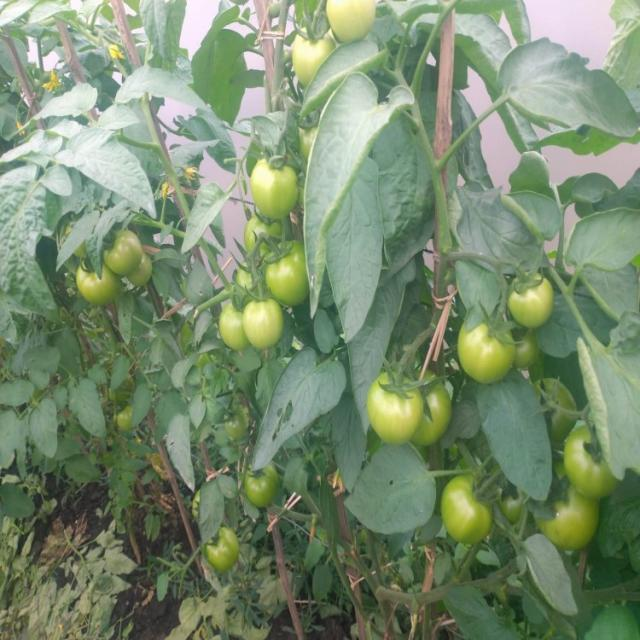tomato: (456, 301, 525, 390), (539, 462, 604, 550), (358, 364, 428, 444), (446, 468, 506, 546), (564, 427, 628, 495), (414, 359, 461, 450), (233, 200, 295, 266), (268, 246, 326, 308), (508, 270, 562, 331), (327, 1, 390, 53), (252, 160, 297, 227), (489, 461, 539, 521), (243, 285, 289, 346), (535, 379, 579, 438), (247, 456, 293, 511), (290, 34, 337, 83), (102, 231, 148, 278), (506, 326, 551, 374), (200, 524, 248, 569), (72, 262, 121, 304), (227, 261, 274, 298), (216, 306, 251, 354), (291, 125, 333, 161), (223, 401, 255, 448), (111, 399, 140, 438), (184, 485, 211, 522), (134, 257, 159, 295)
